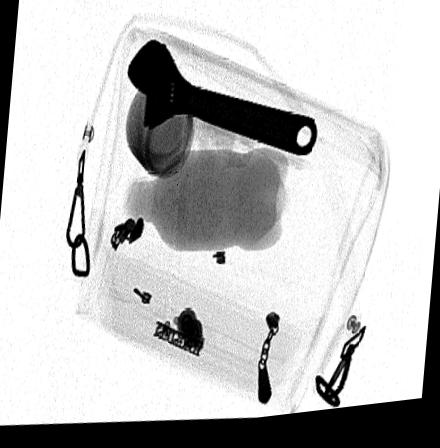Wrench: (124, 43, 316, 165)
